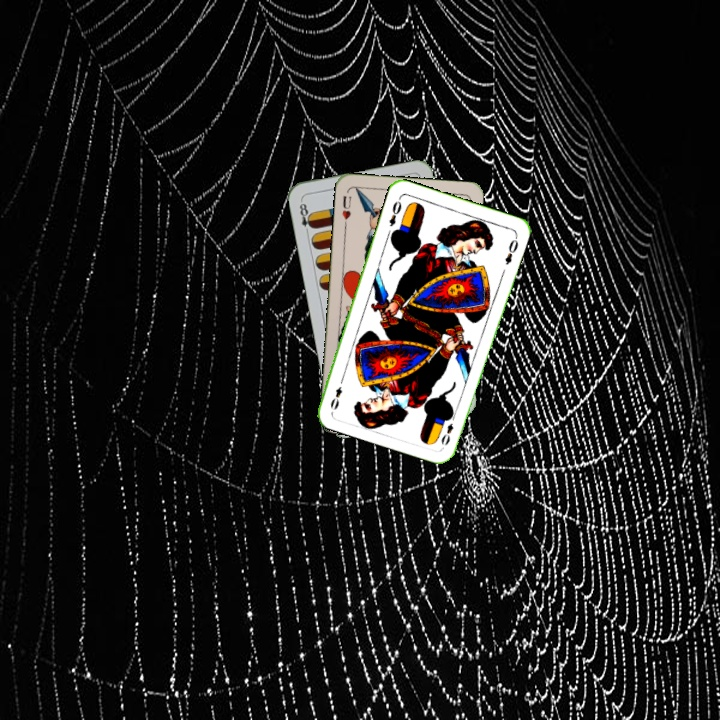E8: (295, 196, 316, 237)
EO: (437, 410, 458, 448), (385, 194, 404, 229)
HU: (338, 192, 354, 229)
